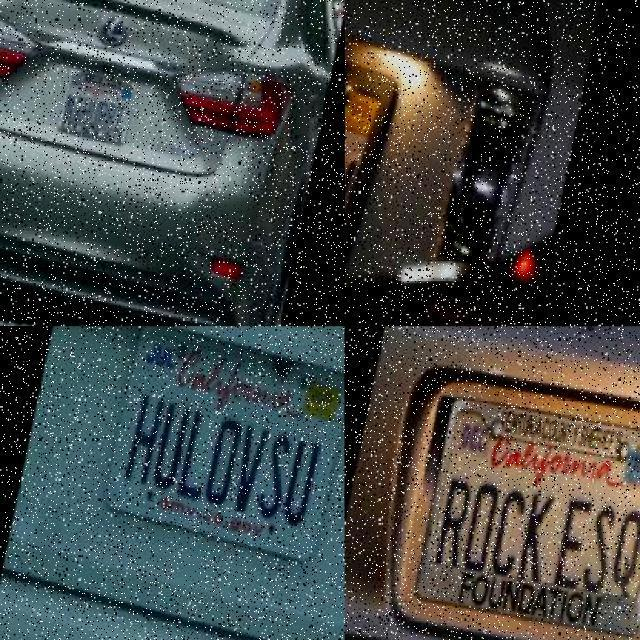LicensePlate: (102, 326, 345, 552), (417, 386, 640, 631), (345, 14, 473, 296), (62, 54, 141, 134)
